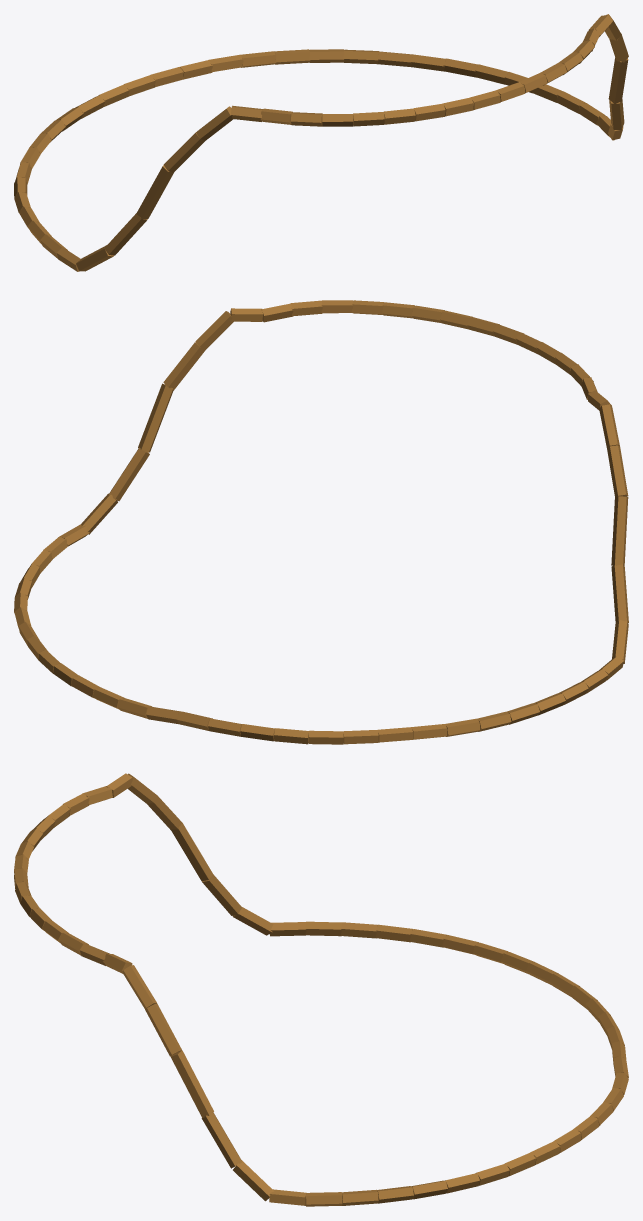
Rendered from HelmTrim_Bronze.fbx.
The picture shows the model from 3 angles, top to bottom: view 1: azimuth 30°, elevation 25°; view 2: azimuth 150°, elevation 25°; view 3: azimuth 270°, elevation 25°; orthographic projection. The views are drawn at different scales.
Parts seen in each view (by area): view 1: HelmTrim_Bronze; view 2: HelmTrim_Bronze; view 3: HelmTrim_Bronze.
Part boxes in pixels (x1,y1,x2,y2): HelmTrim_Bronze: [14, 14, 628, 271]; HelmTrim_Bronze: [14, 300, 628, 744]; HelmTrim_Bronze: [14, 773, 628, 1206].
Size of the model in its own units: 0.6343 by 0.2167 by 0.5933.
